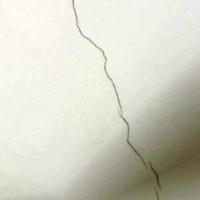crack: (70, 0, 163, 198)
